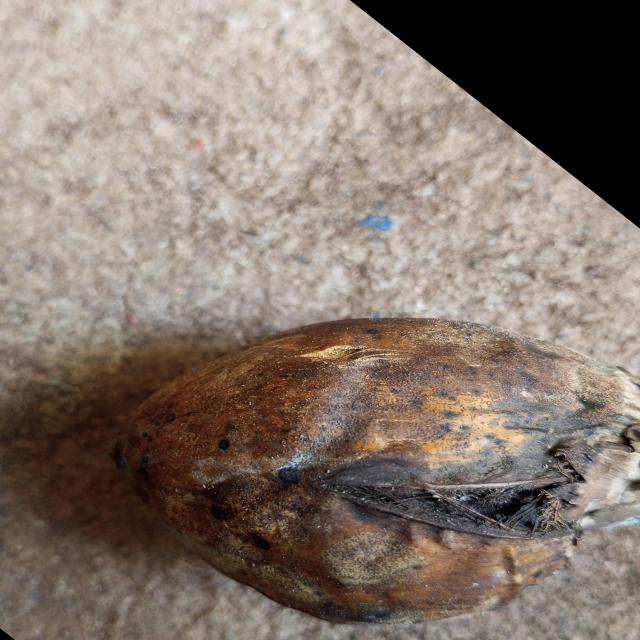damaged: (113, 319, 638, 622)
